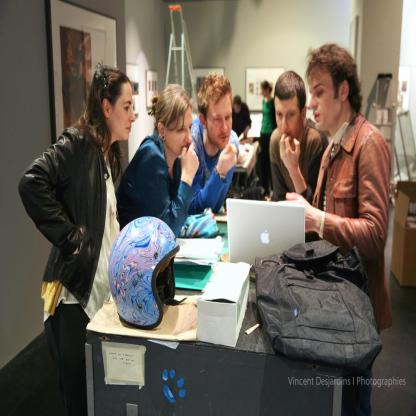board: (225, 198, 306, 266)
